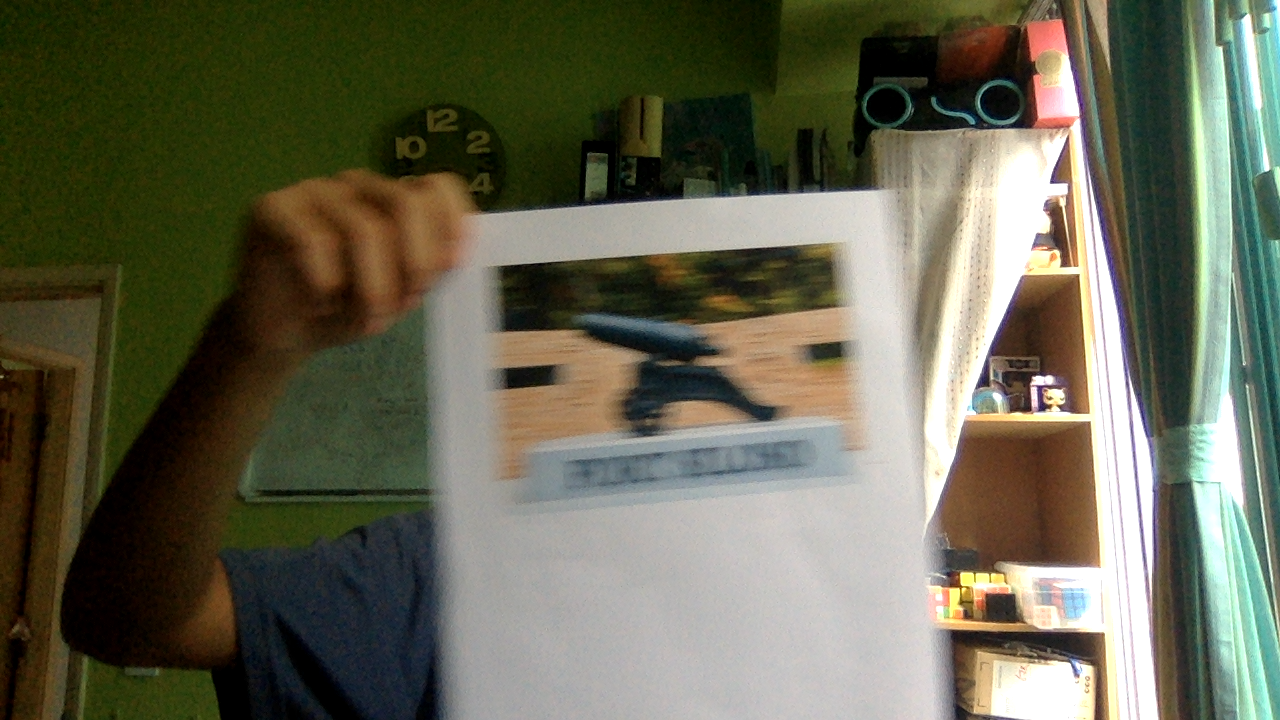siloso: (472, 241, 877, 498)
